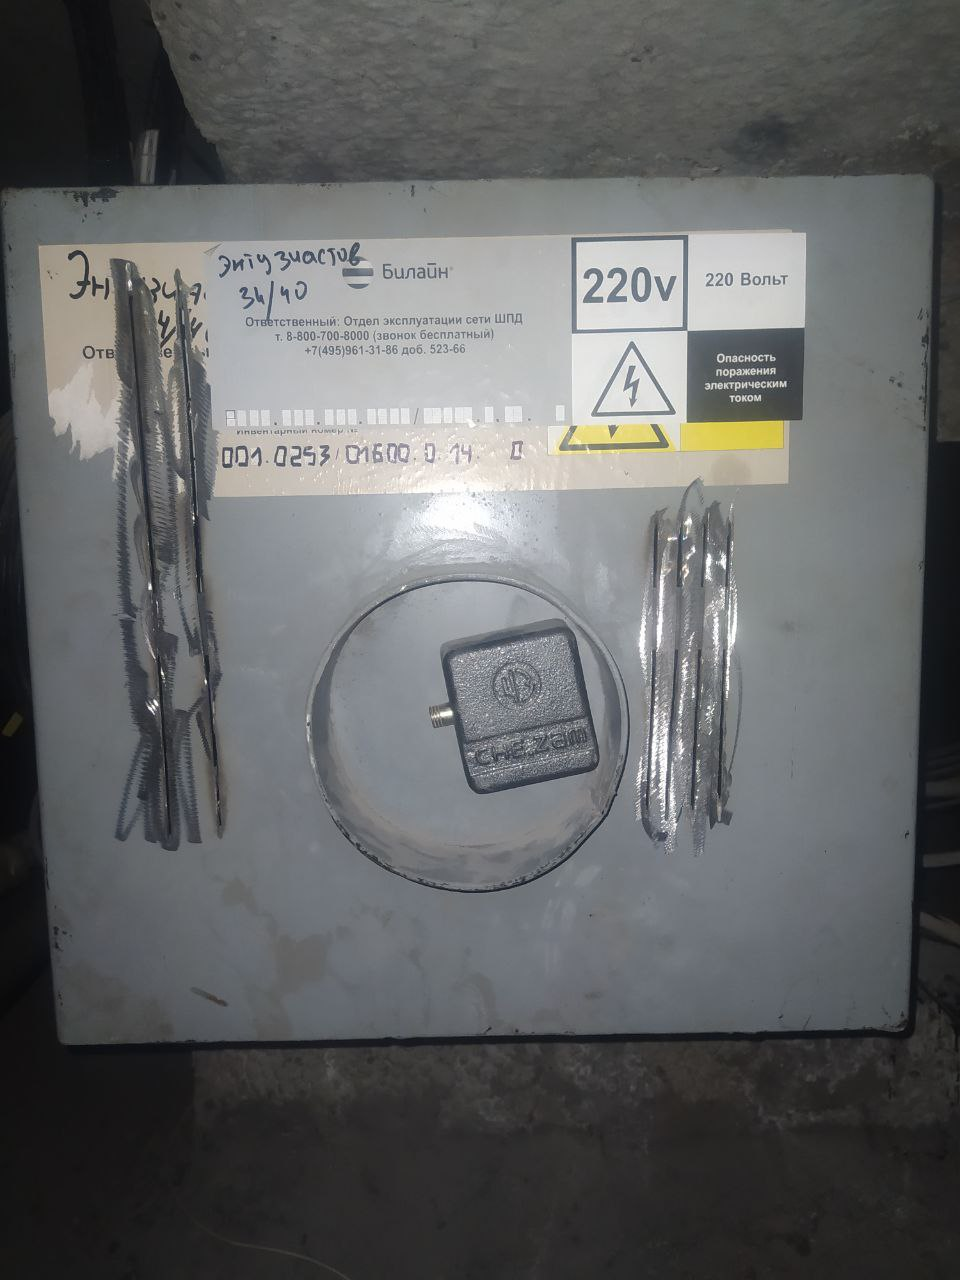shta-9: (8, 157, 940, 1060)
